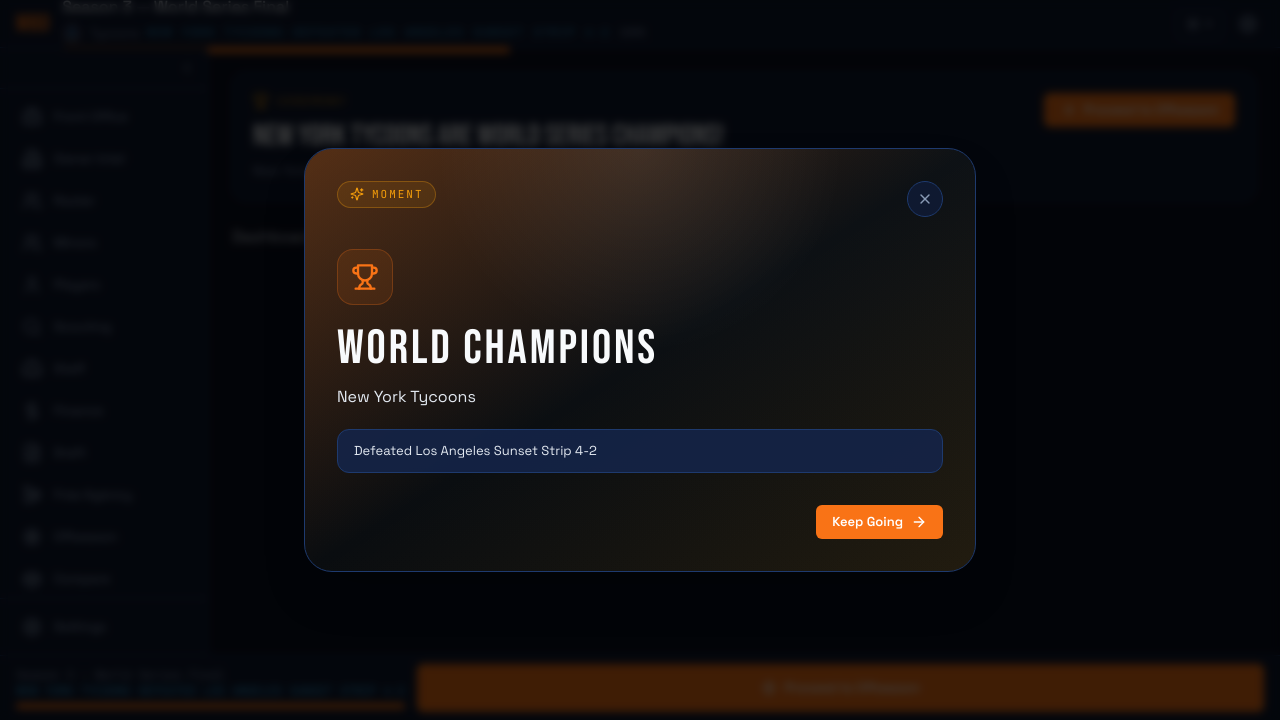
it: AppLayout › shows the active ceremony moment before the monthly report and then advances into the report queue
This screenshot has width=1280, height=720.
Expected: the text "Monthly Report" is not shown
Click the button "Keep Going" at (880, 522), box x1=816 y1=505 x2=943 y2=539
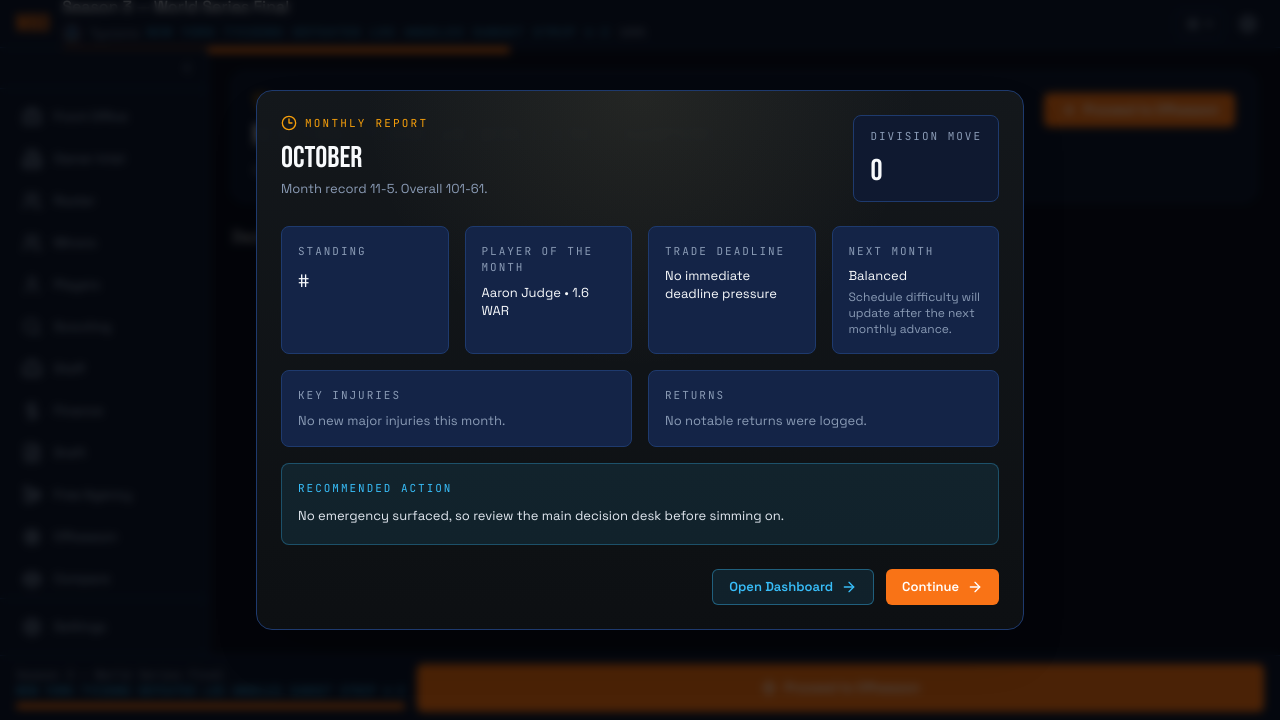
Expected: the text "Monthly Report" is shown, x1=281 y1=115 x2=428 y2=131
Expected: the text "October" is shown, x1=281 y1=140 x2=362 y2=176
